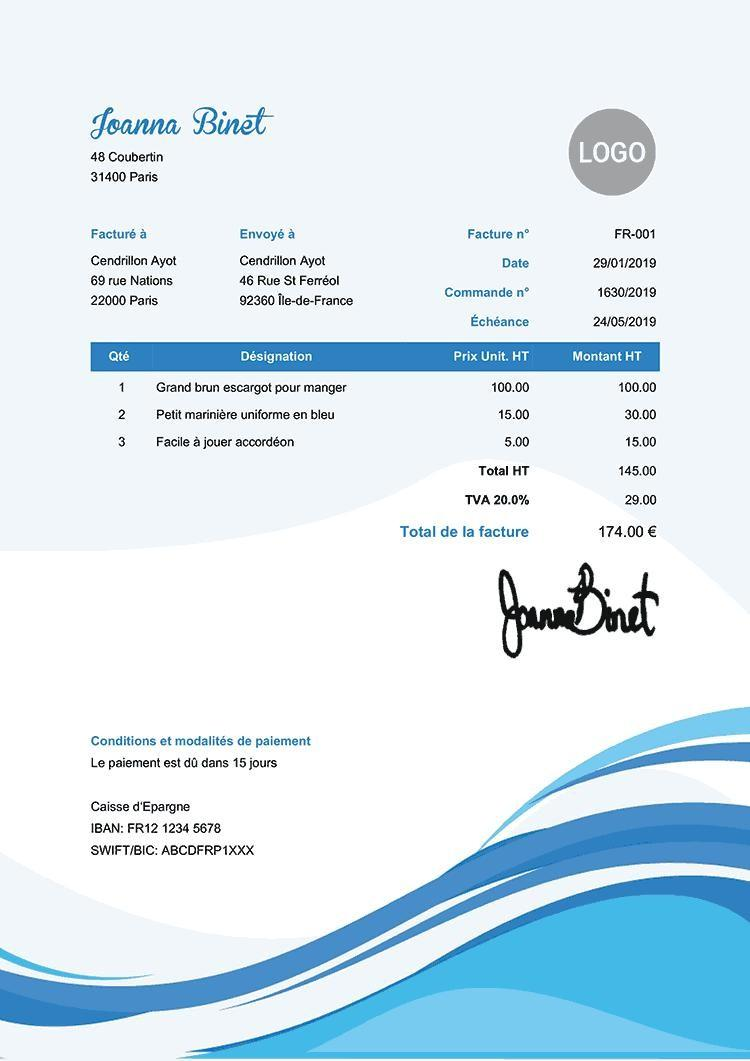ROI: (94, 349, 658, 486), (431, 225, 658, 329), (84, 102, 276, 189), (387, 490, 666, 545), (88, 798, 263, 865), (80, 728, 319, 770), (236, 230, 360, 308), (89, 224, 193, 310)
